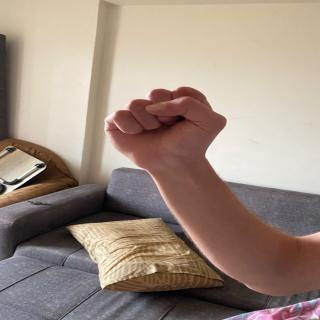SAD: (77, 74, 250, 165)
